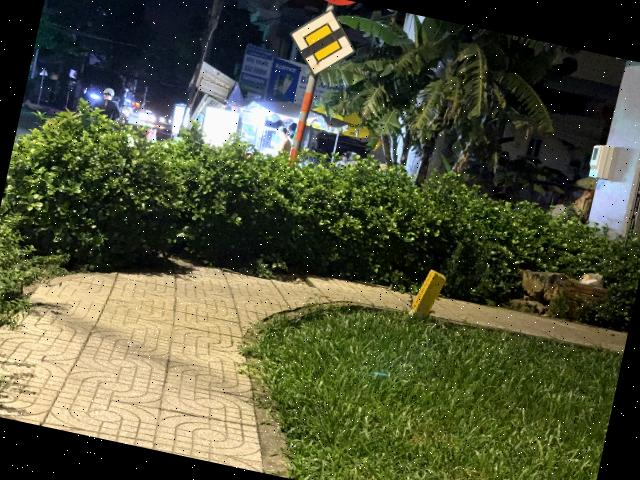het-duong-uu-tien: (281, 1, 364, 84)
